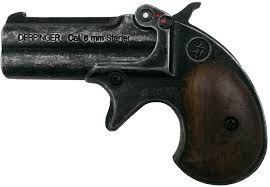gun: (1, 8, 266, 183)
